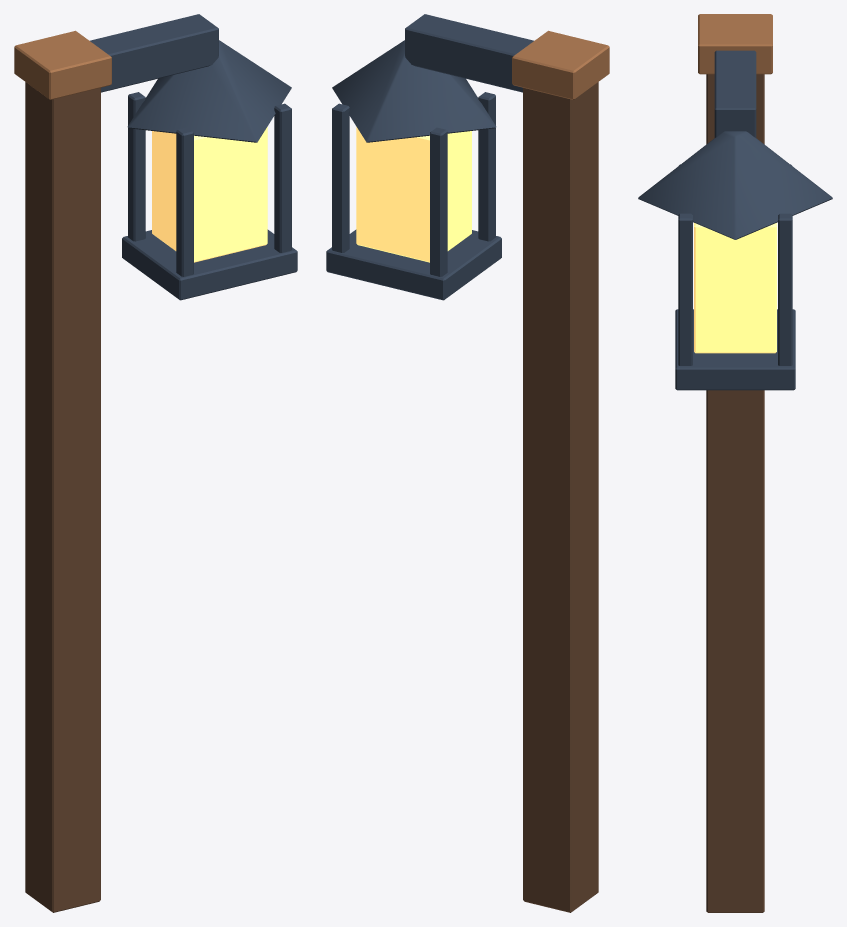
Rendered from lantern_post_tall_01.glb.
3 views of the same model, side by side, from view 1: azimuth 30°, elevation 25°; view 2: azimuth 150°, elevation 25°; view 3: azimuth 270°, elevation 25° (orthographic). The views are drawn at different scales.
Parts seen in each view (by area): view 1: lantern_post_tall_01; view 2: lantern_post_tall_01; view 3: lantern_post_tall_01.
Part boxes in pixels (x1=…): lantern_post_tall_01: x1=14, y1=14, x2=297, y2=912; lantern_post_tall_01: x1=326, y1=14, x2=609, y2=912; lantern_post_tall_01: x1=638, y1=14, x2=832, y2=912.
Size of the model in its own units: 0.7443 by 2.32 by 0.4687.
